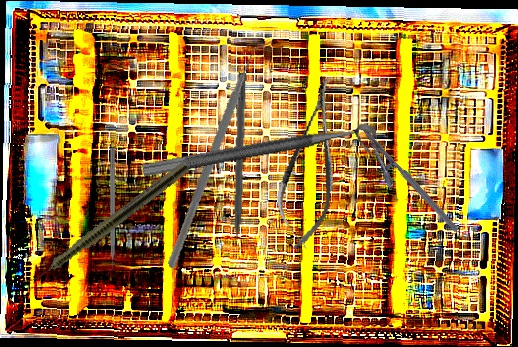Chopper: (130, 40, 312, 269), (103, 148, 115, 276)
Fixation Ring: (141, 121, 381, 198)
Handpiece: (20, 159, 191, 293)
Micro Scissor: (267, 71, 356, 255)
Needle Holder: (346, 124, 460, 246)
Pusher: (229, 72, 247, 261)
